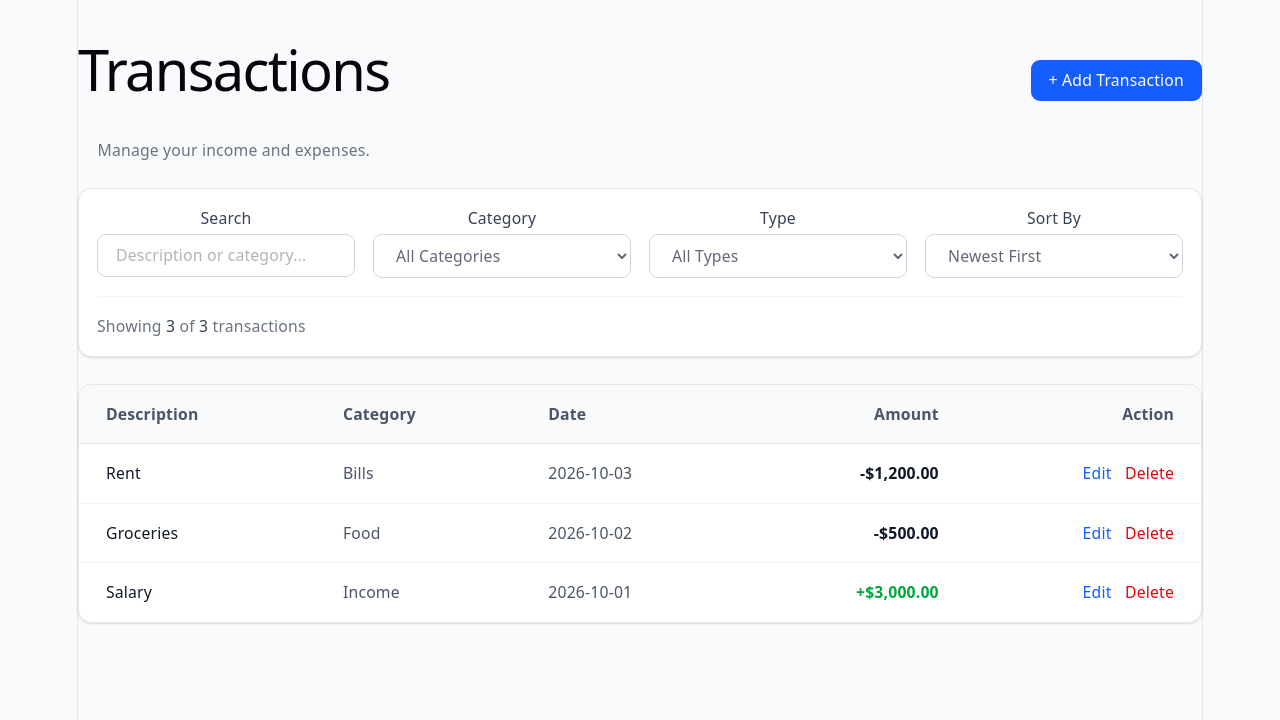
Test: TransactionsPage › deletes a transaction after confirmation
Expected: the text "Rent" is shown, 106,462 -> 141,484
Click the button "Delete" in the row of "Rent": point(1150, 473) 1125,462 -> 1174,485
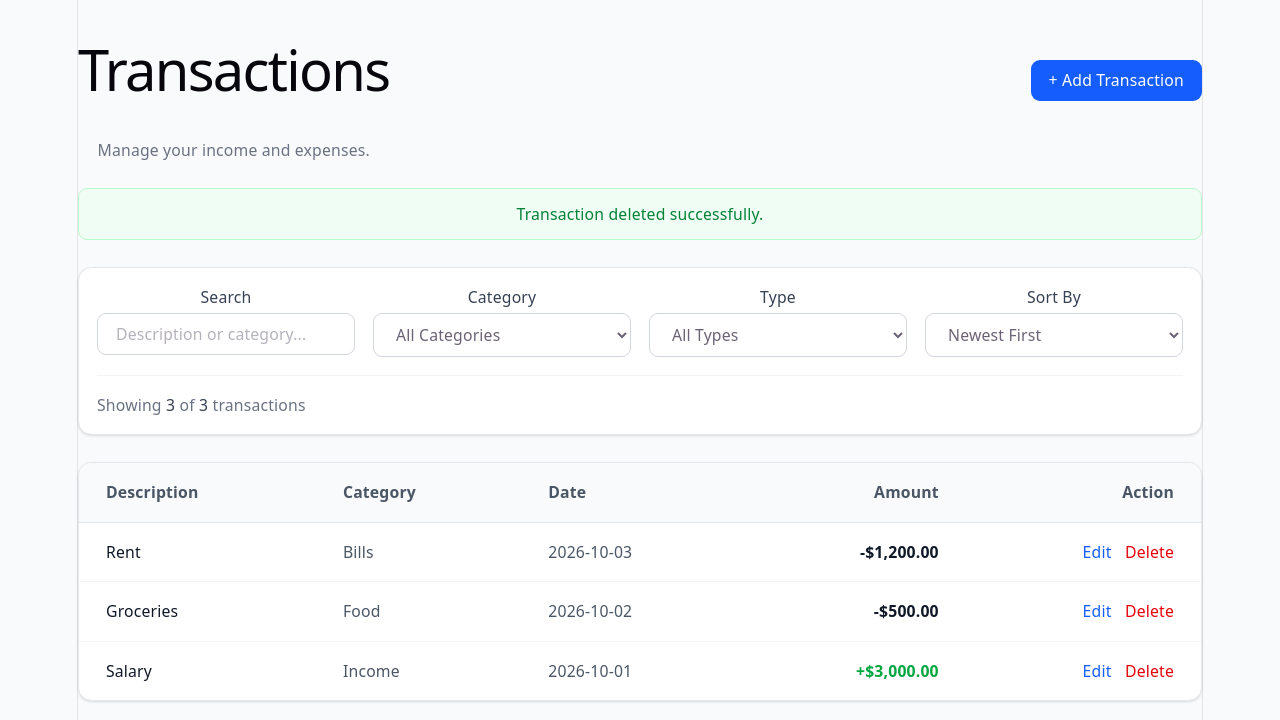
Now the message reads "Transaction deleted successfully.", box 517,203 -> 764,225
